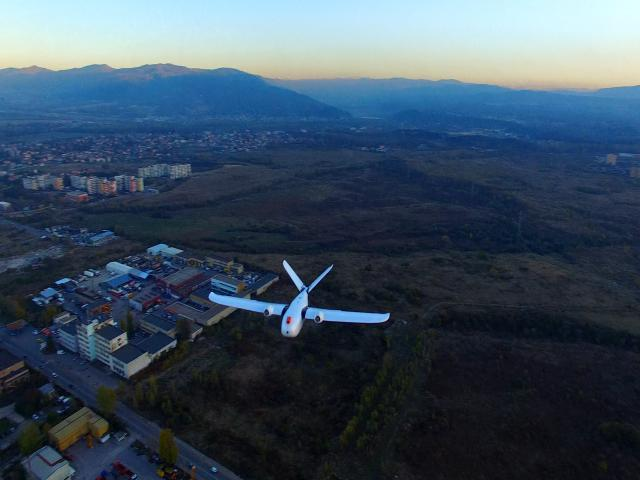plane: (208, 260, 391, 338)
